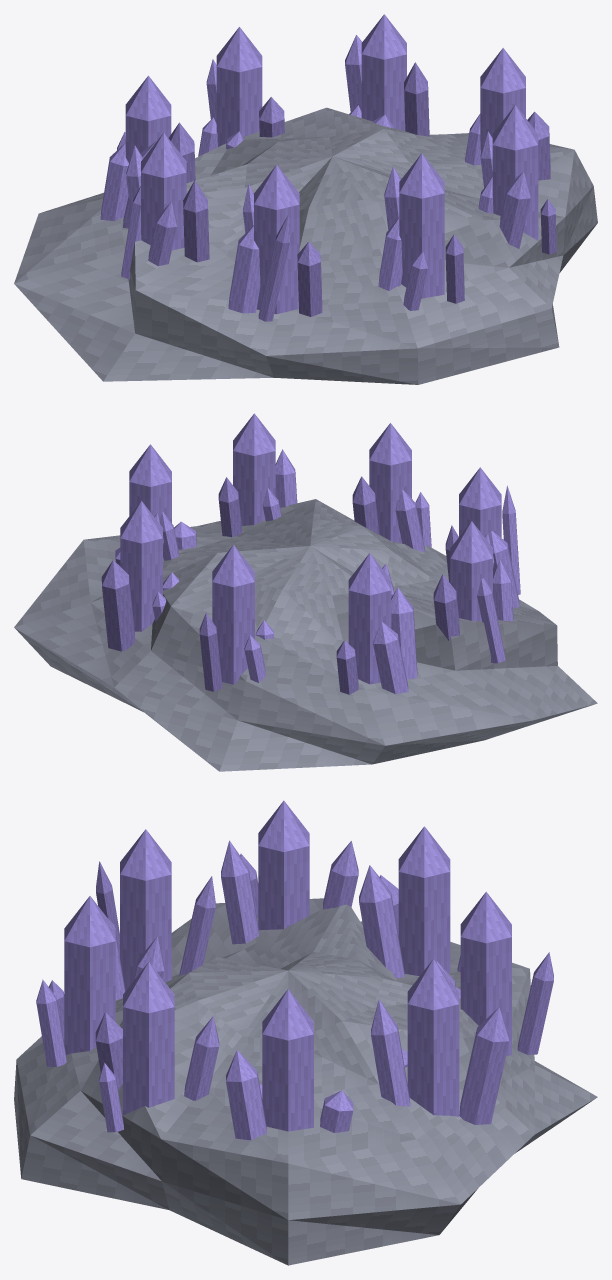
Rendered from cave-and-crystal-networks-amethyst-geode-a1a11f47.glb.
The picture shows the model from 3 angles, top to bottom: view 1: azimuth 30°, elevation 25°; view 2: azimuth 150°, elevation 25°; view 3: azimuth 270°, elevation 25°; orthographic projection. The views are drawn at different scales.
Visible parts, largest first — view 1: amethyst-geode; view 2: amethyst-geode; view 3: amethyst-geode.
Boxes of the visible parts, left/top/right/bottom form: amethyst-geode: left=14, top=14, right=597, bottom=384; amethyst-geode: left=14, top=413, right=597, bottom=771; amethyst-geode: left=14, top=800, right=597, bottom=1265.
Bounding box in the file's own units: 1.43 × 0.5 × 1.18.
Materials: 2 (2 with a texture image).
